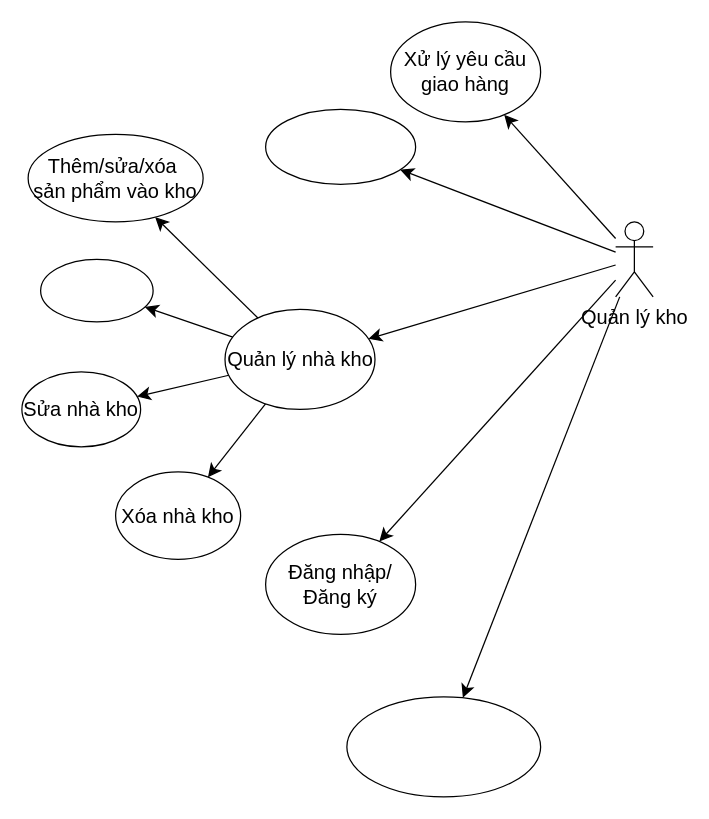
Image size: 709x819. Some labels were removed from this diagram. The centre of each missing label's shape, as x and y in pixels:
Nhắn tin: (x=340, y=146)
Thêm nhà kho: (x=96, y=290)
Xem chiến lược của quản lý chuỗi: (x=443, y=746)
